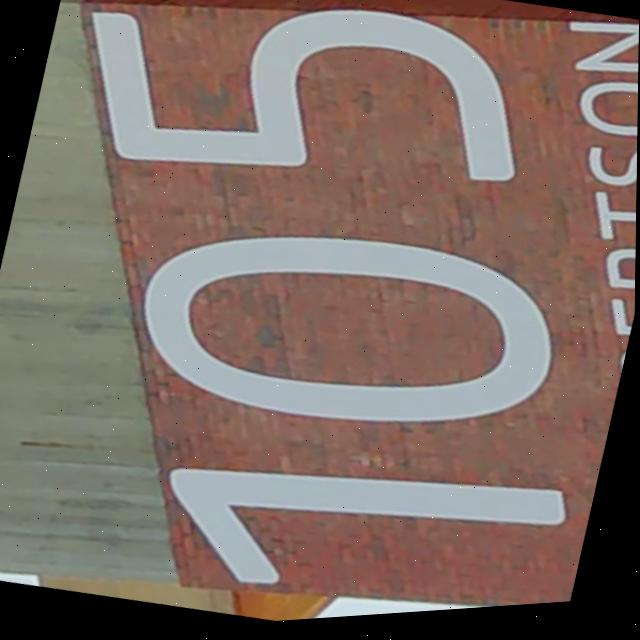character: (116, 174, 580, 479), (55, 0, 556, 249), (143, 401, 579, 630)
